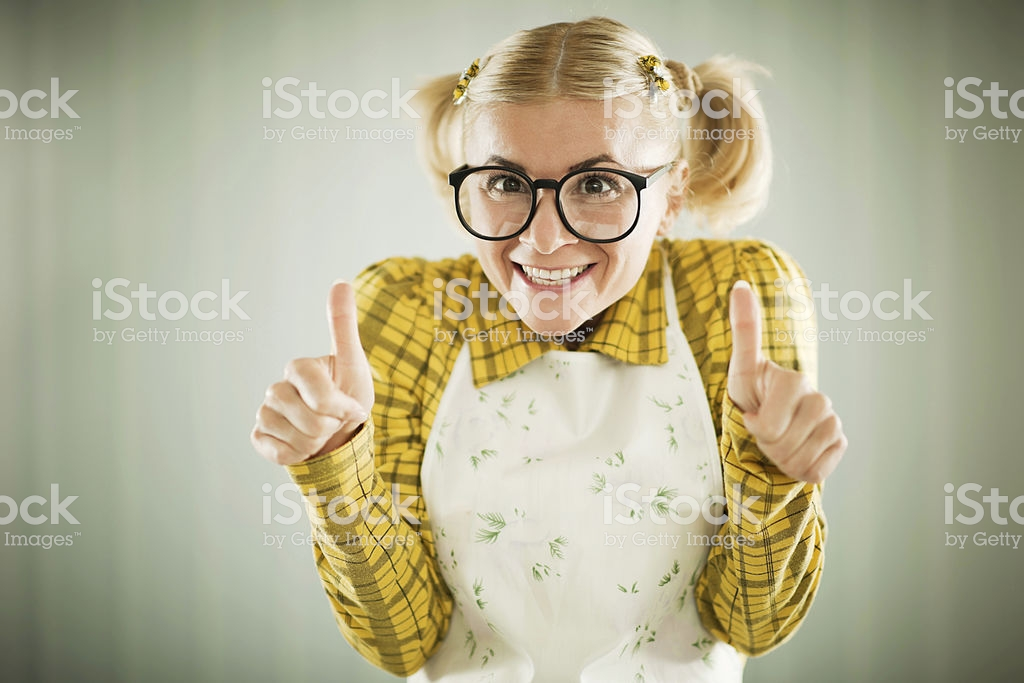thumbsup: (726, 278, 850, 487), (247, 279, 376, 469)
